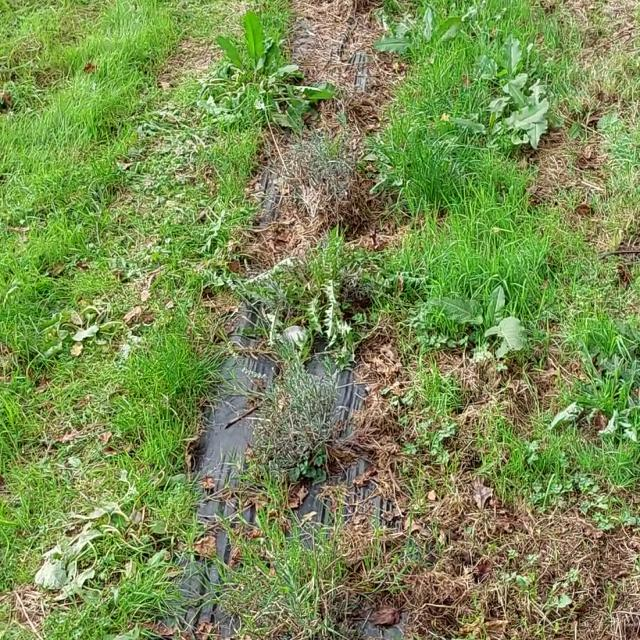organic waste: (20, 462, 174, 626), (199, 0, 331, 133), (425, 275, 543, 389), (47, 275, 169, 376), (458, 76, 573, 170), (427, 23, 548, 105), (543, 362, 640, 464), (374, 0, 483, 79)
